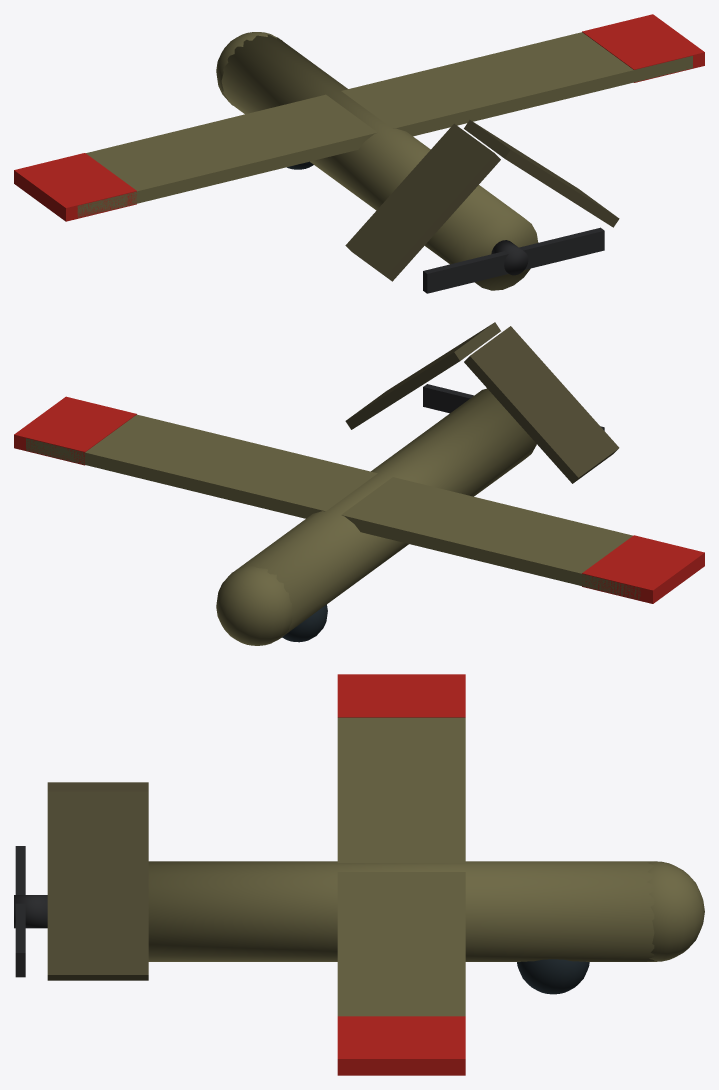
The model's file is Drone_Red.fbx.
3 views of the same model, one above another, from view 1: azimuth 30°, elevation 25°; view 2: azimuth 150°, elevation 25°; view 3: azimuth 270°, elevation 25° (orthographic). The views are drawn at different scales.
Visible parts, largest first — view 1: Wing, Body, TailL, WingStripeL, WingStripeR, PropBlade, TailR, PropHub, Nose; view 2: Wing, Body, TailL, WingStripeL, Nose, WingStripeR, TailR, PropBlade, Camera; view 3: Body, Wing, TailR, WingStripeR, WingStripeL, Nose, Camera, PropBlade, TailL, PropHub.
Boxes of the visible parts, x1,y1,x2,y2 form: Wing: (77, 32, 692, 217); Body: (221, 34, 538, 290); TailL: (345, 123, 500, 281); WingStripeL: (14, 153, 136, 221); WingStripeR: (582, 14, 704, 82); PropBlade: (423, 227, 604, 293); TailR: (464, 120, 619, 227); PropHub: (491, 240, 528, 275); Nose: (216, 32, 282, 106); Wing: (26, 414, 640, 599); Body: (228, 388, 536, 640); TailL: (464, 326, 619, 483); WingStripeL: (582, 535, 704, 603); Nose: (216, 565, 292, 645); WingStripeR: (14, 396, 136, 465); TailR: (345, 322, 500, 429); PropBlade: (423, 384, 604, 430); Camera: (282, 604, 327, 642); Body: (148, 861, 654, 961); Wing: (337, 717, 465, 1016); TailR: (47, 791, 148, 980); WingStripeR: (337, 1016, 465, 1075); WingStripeL: (337, 674, 465, 717); Nose: (647, 861, 704, 961); Camera: (517, 959, 589, 994); PropBlade: (15, 846, 25, 977); TailL: (47, 782, 148, 791); PropHub: (14, 895, 47, 928).
Bounding box in the file's own units: 270 × 205 × 66.82.
